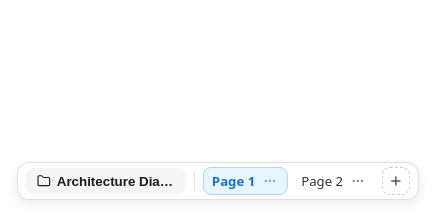
Test: MultiPage UI Components › should open 3-dots menu and show page options
// Click 3 dots on the first page
Click the button titled "Page options" next to "Page 1".
click(270, 181)  # box [261, 172, 279, 190]
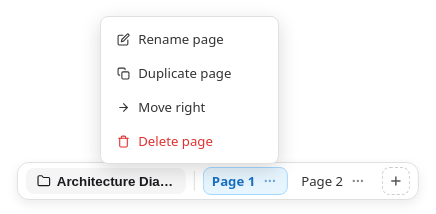
Result: the text "Rename page" is shown at [138, 30, 224, 48]
Result: the text "Duplicate page" is shown at [138, 64, 231, 82]
Result: the text "Move right" is shown at [138, 98, 205, 116]
